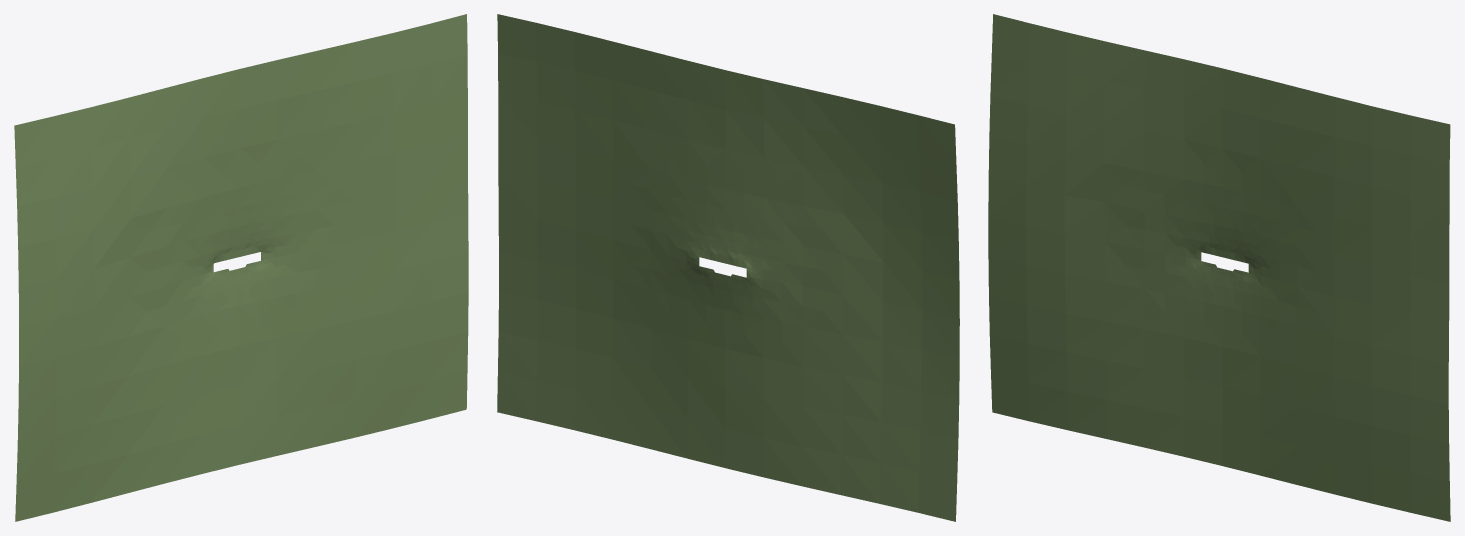
The model's file is 2TOs1Sensor_DrivingByParkingCars.obj.
The picture shows the model from 3 angles, left to right: view 1: azimuth 30°, elevation 25°; view 2: azimuth 150°, elevation 25°; view 3: azimuth 330°, elevation 25°; orthographic projection.
Parts seen in each view (by area): view 1: Background; view 2: Background; view 3: Background.
Boxes of the visible parts, box(x1,y1,x2,y2) form: Background: box(14, 14, 468, 521); Background: box(497, 14, 959, 521); Background: box(988, 14, 1450, 521).
Size of the model in its own units: 480 by 400 by 16.66.
